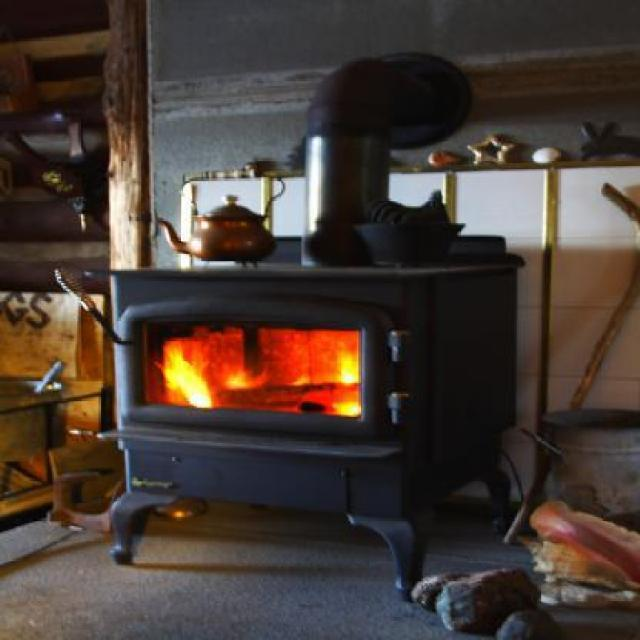Fire: (214, 357, 334, 403), (176, 330, 250, 391), (167, 346, 207, 406), (334, 401, 360, 417), (342, 356, 356, 384)
